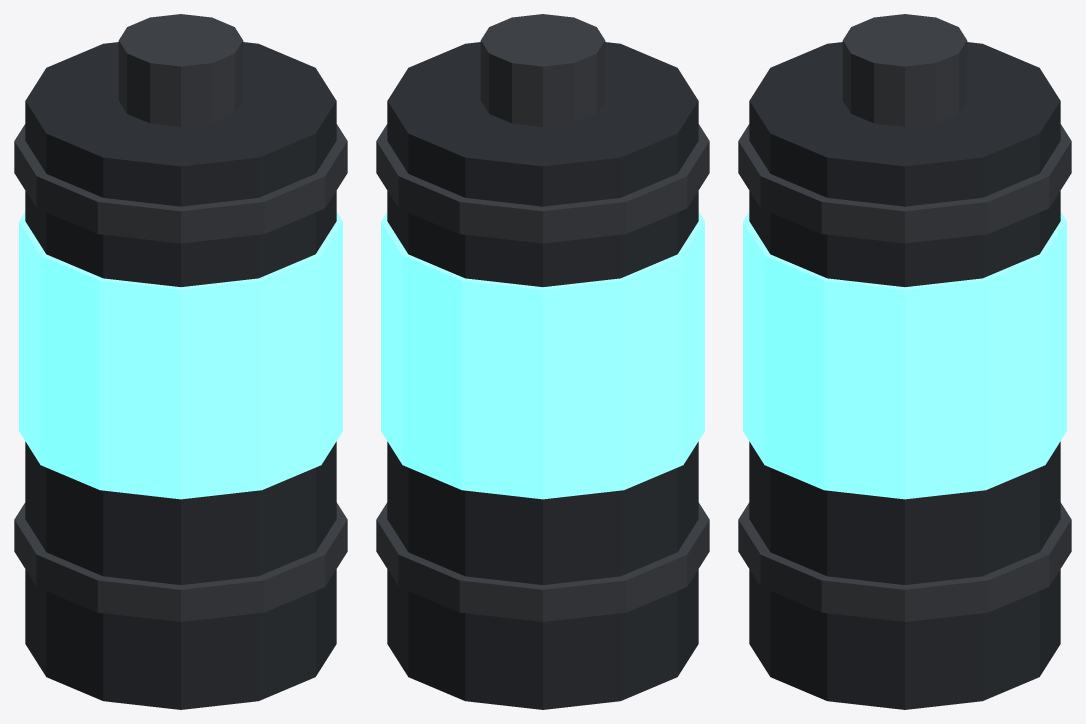
Rendered from Battery.fbx.
3 renders of one model, left to right at view 1: azimuth 30°, elevation 25°; view 2: azimuth 150°, elevation 25°; view 3: azimuth 270°, elevation 25°, orthographic.
Parts seen in each view (by area): view 1: Battery; view 2: Battery; view 3: Battery.
Boxes of the visible parts, <box> form: Battery: <box>14,14,347,709</box>; Battery: <box>376,14,709,709</box>; Battery: <box>738,14,1071,709</box>.
Size of the model in its own units: 0.075 by 0.15 by 0.075.
